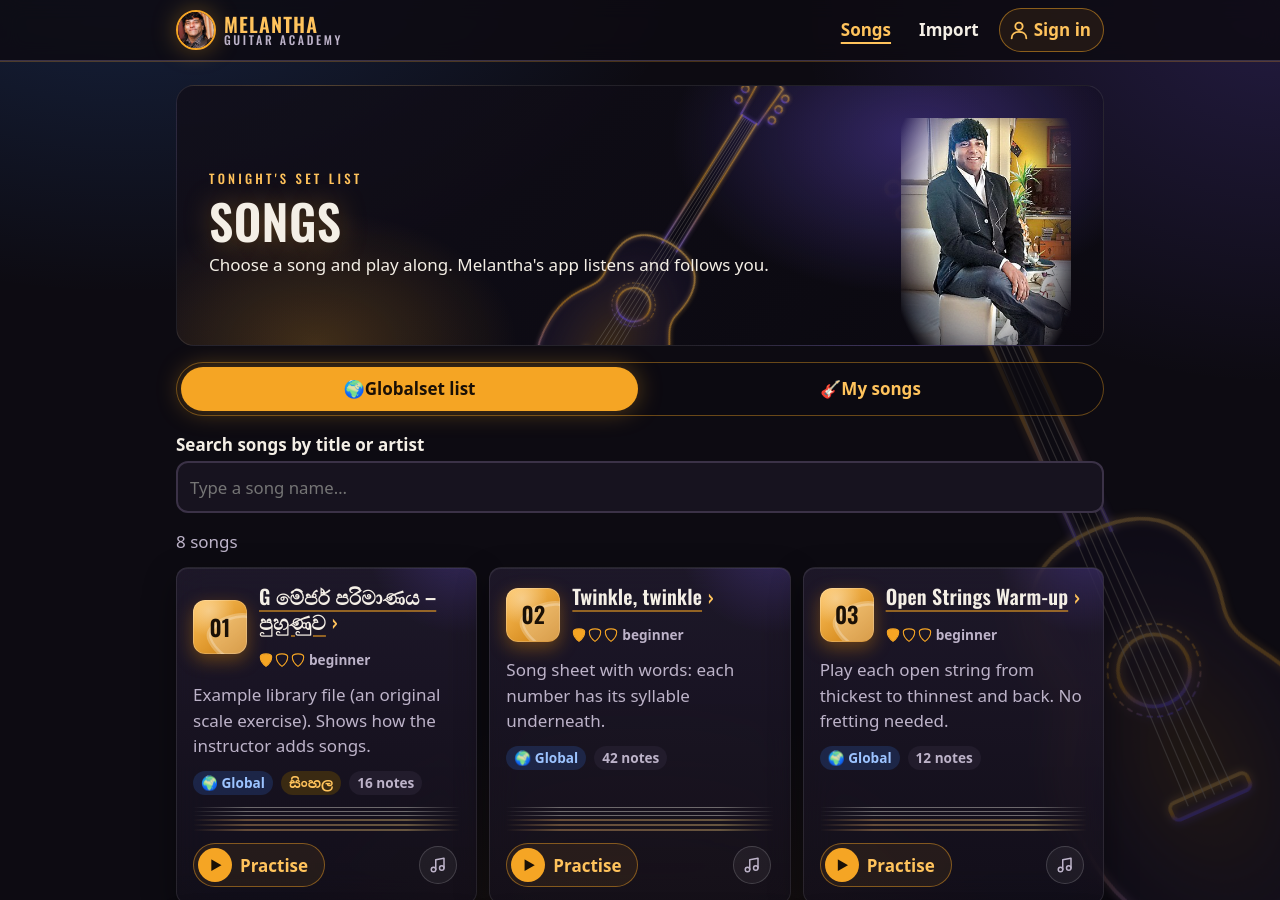
Test: accounts › shows "Sign in" in the header when signed out, which opens the sign-in page
Click the link "Sign in": (1051, 30) [999, 8, 1104, 52]
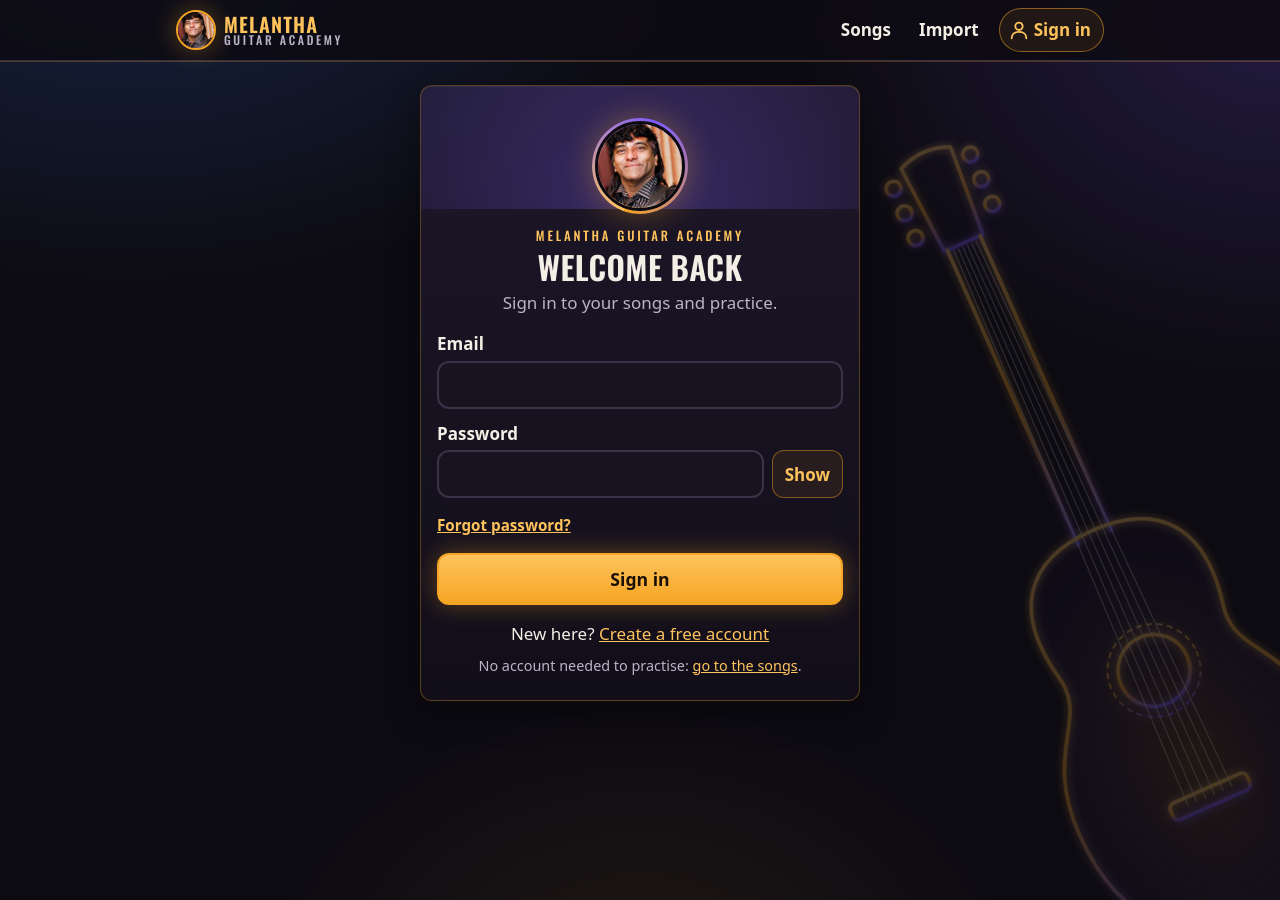
Result: the heading "Welcome back" is shown at [538, 243, 742, 290]
